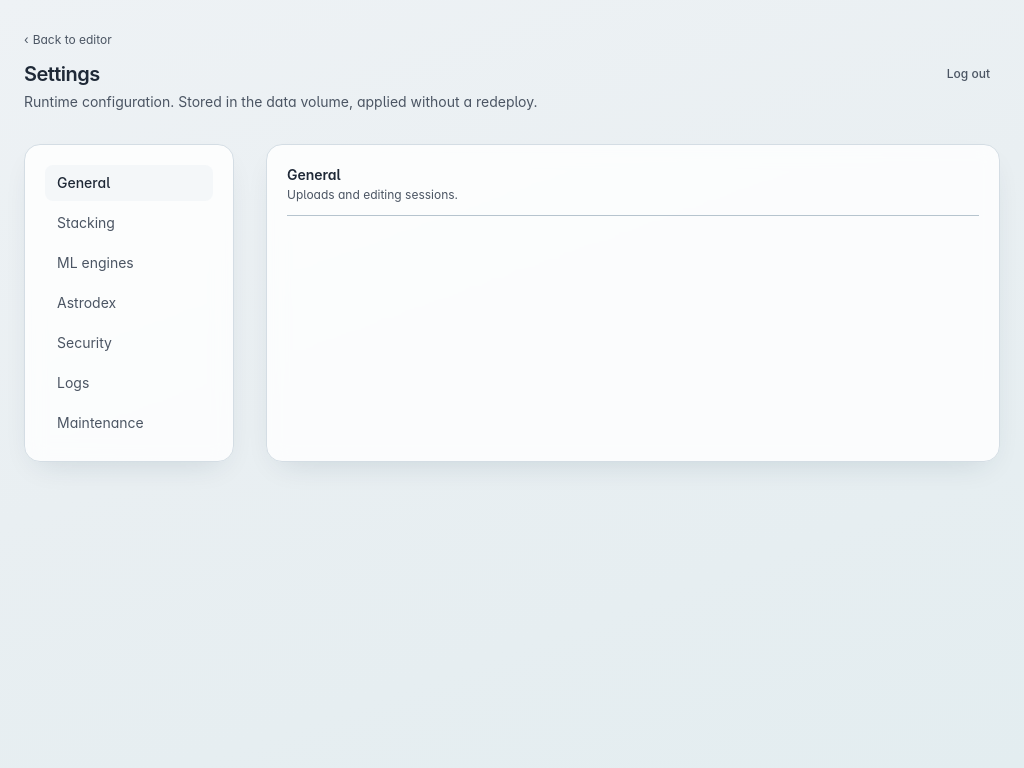
Test: SettingsView › admin gate › shows the Security section with the session lifetime and the password form
Click the button "Security" at (129, 343), box [45, 325, 213, 361]
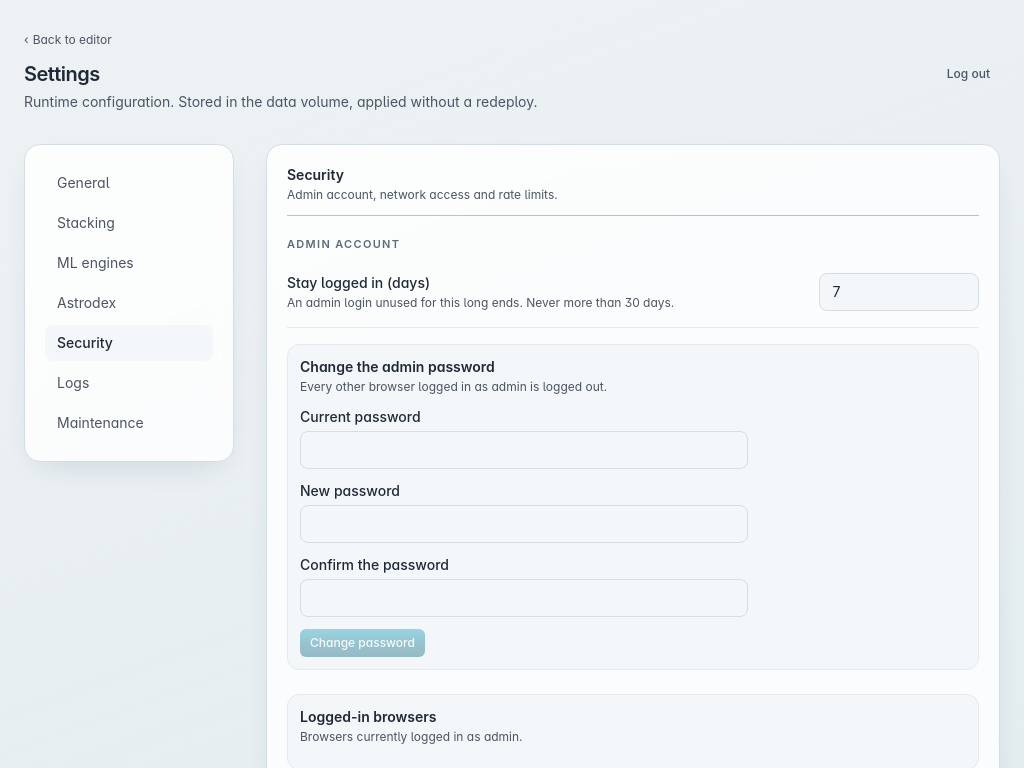
Expected: the number field labelled "Stay logged in (days)" holds "7"
Expected: the heading "Change the admin password" is shown, [300, 358, 495, 374]
Replace the text in the number field labelled "Stay logged in (days)" with "3" at (899, 292), box [819, 272, 979, 310]
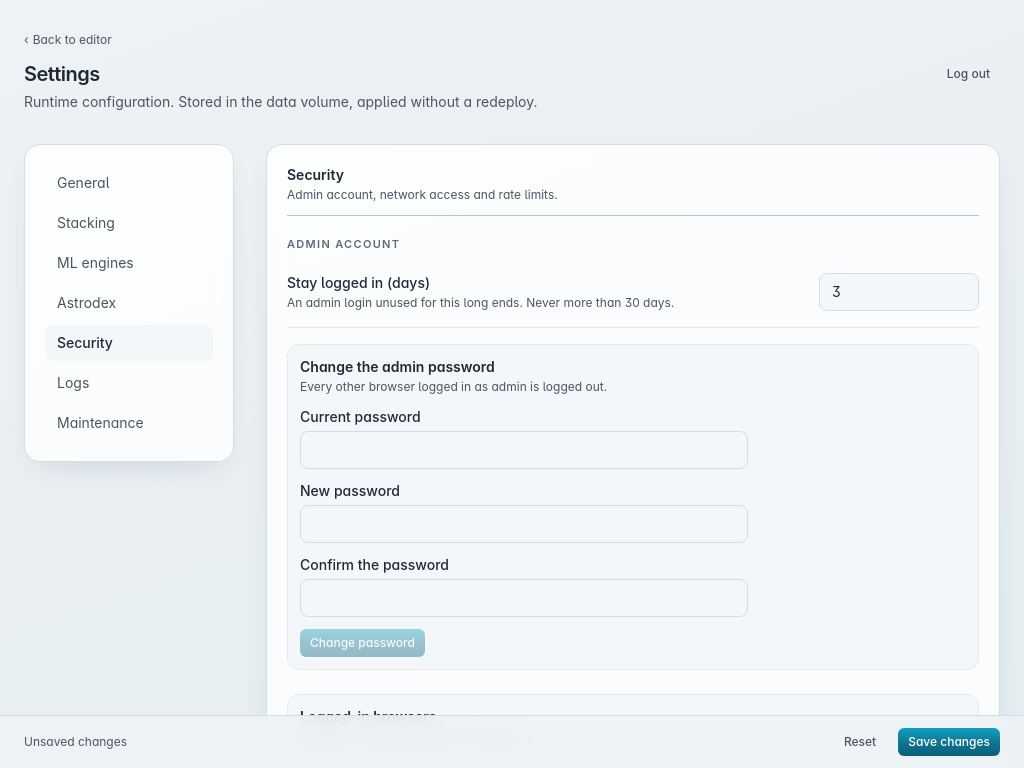
Expected: the text "Unsaved changes" is shown, [24, 734, 127, 750]
